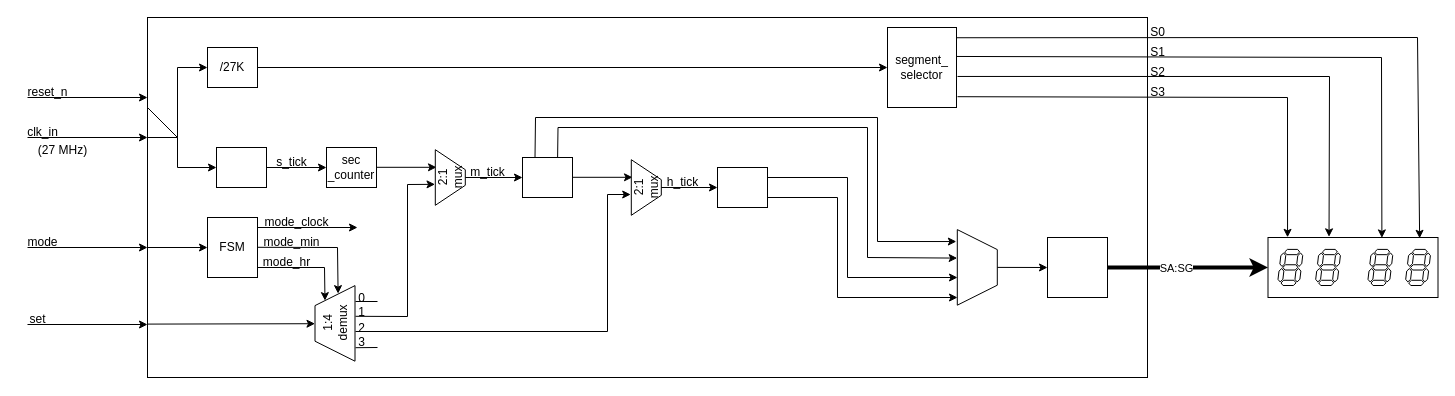
The diagram is 1455 pixels wide and 396 high, and some of its shapes have lost their labels. Here are the shapes that lost their labels. From the top down, the centre of each, then its label:
point (241, 167): /27M
point (547, 177): min _counter
point (742, 187): hr _counter
point (1077, 267): segment _decoder
